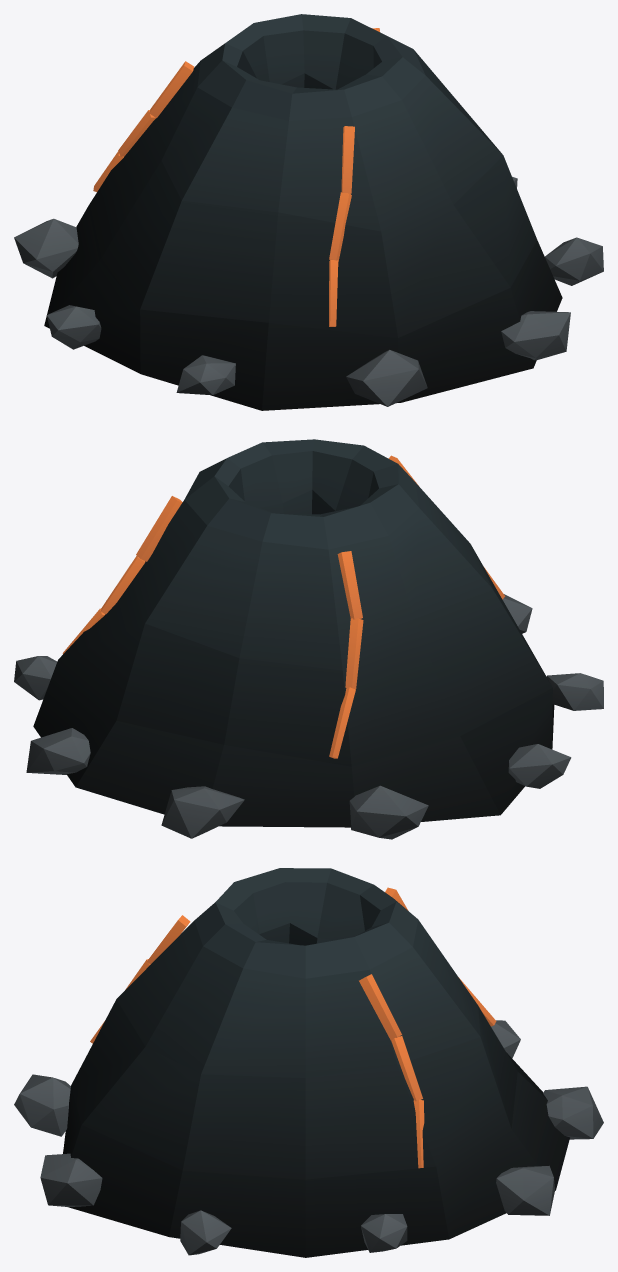
File: lava_vent.glb
3 renders of one model, top to bottom at view 1: azimuth 30°, elevation 25°; view 2: azimuth 150°, elevation 25°; view 3: azimuth 270°, elevation 25°, orthographic. The views are drawn at different scales.
Visible parts, largest first — view 1: lava_vent; view 2: lava_vent; view 3: lava_vent.
Part boxes in pixels (x1,y1,x2,y2): lava_vent: (14,14,603,410); lava_vent: (14,439,603,839); lava_vent: (14,868,603,1257).
Size of the model in its own units: 3.49 by 1.71 by 3.57.
Materials: 5 (5 with a texture image).
